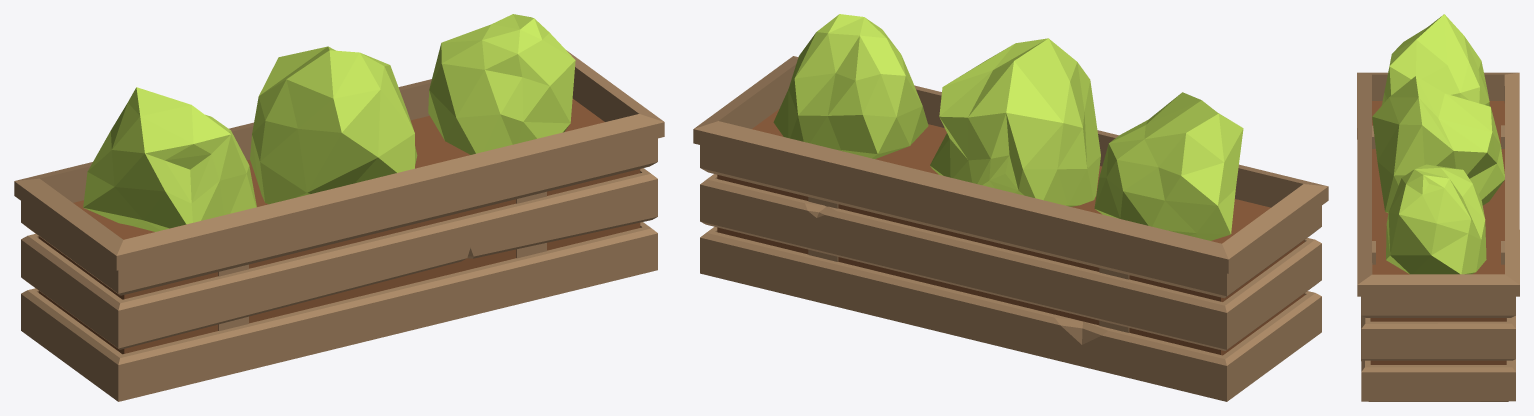
The model's file is rootnode_006_intact.glb.
The picture shows the model from 3 angles, left to right: view 1: azimuth 30°, elevation 25°; view 2: azimuth 150°, elevation 25°; view 3: azimuth 270°, elevation 25°; orthographic projection. The views are drawn at different scales.
Visible parts, largest first — view 1: PlanterBushes.003; view 2: PlanterBushes.003; view 3: PlanterBushes.003.
Boxes of the visible parts, x1,y1,x2,y2 form: PlanterBushes.003: [14, 14, 664, 401]; PlanterBushes.003: [693, 14, 1328, 401]; PlanterBushes.003: [1357, 14, 1519, 401].
Bounding box in the file's own units: 2.37 × 1.12 × 0.7683.
